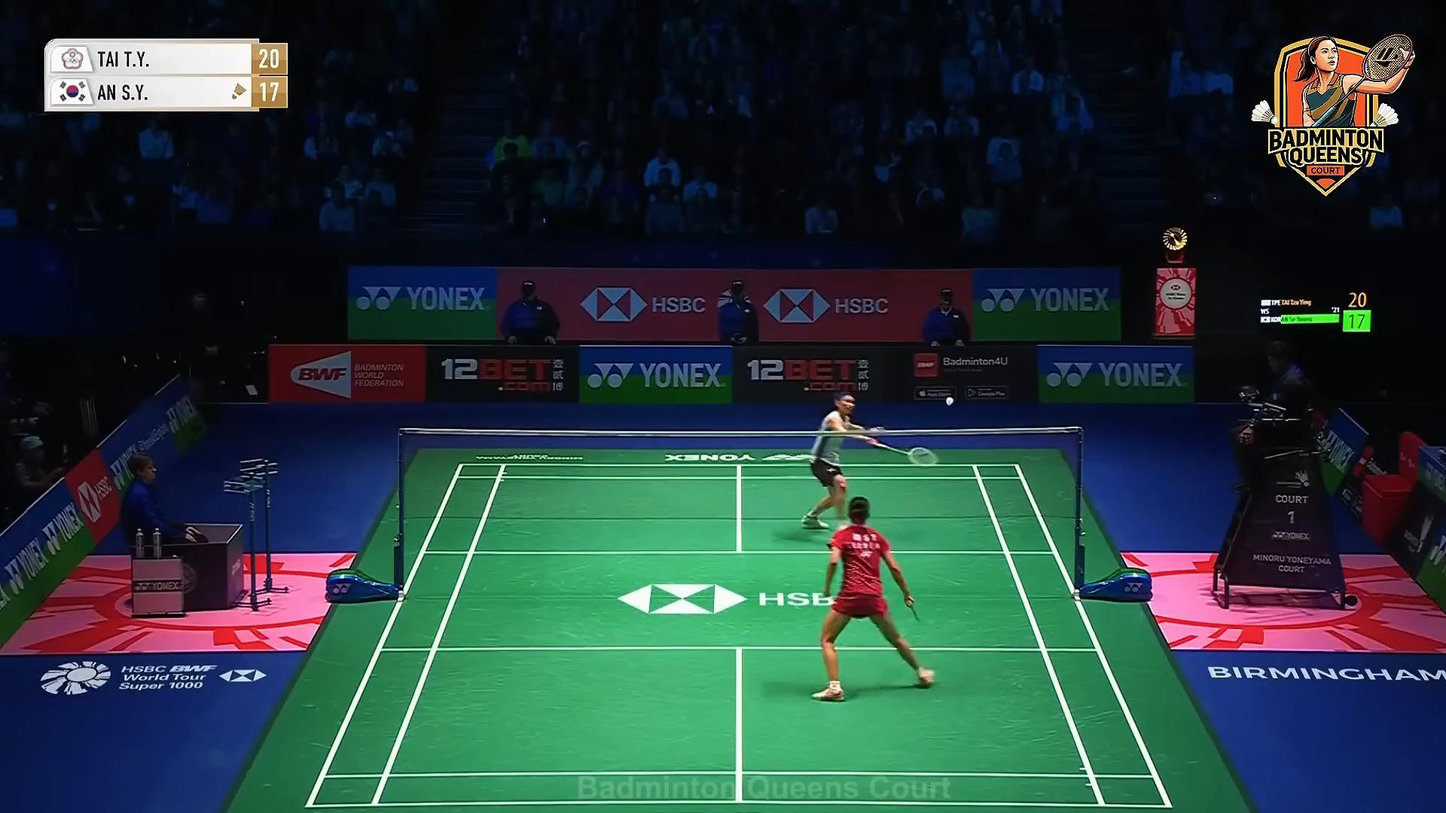player: (813, 495, 933, 701), (802, 391, 914, 535)
